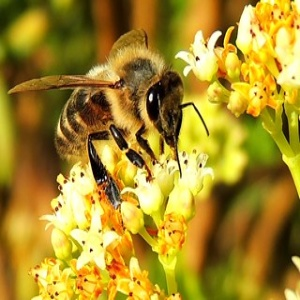bee: (7, 25, 211, 225)
